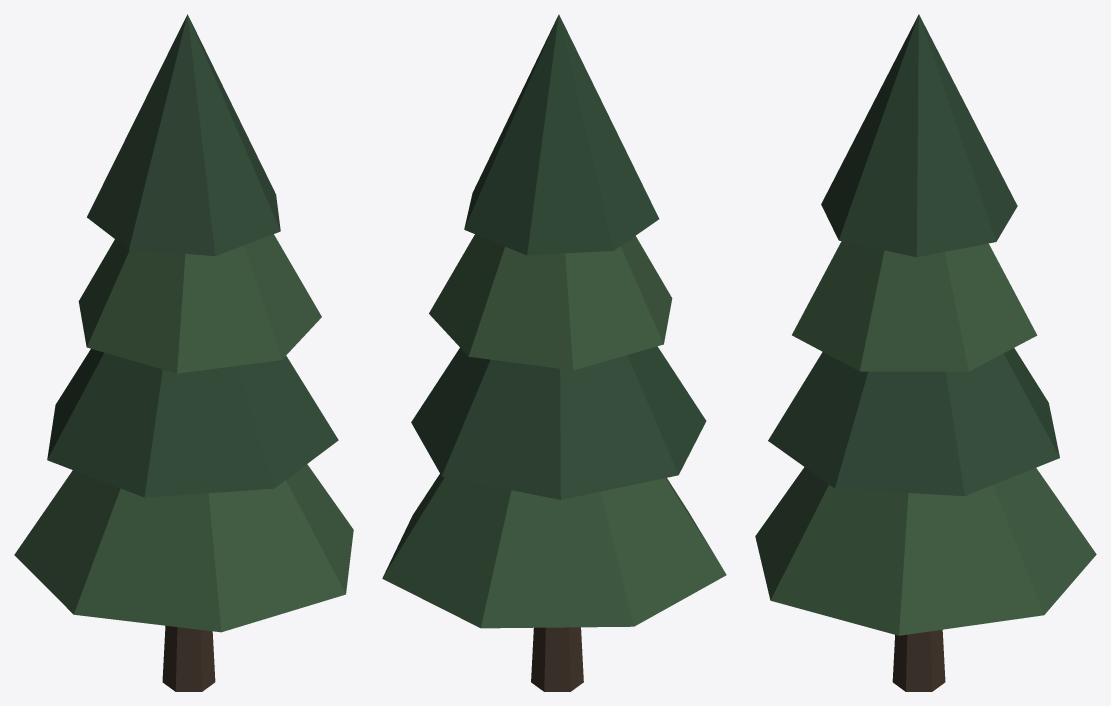
File: spruce_0.glb
The picture shows the model from 3 angles, left to right: view 1: azimuth 30°, elevation 25°; view 2: azimuth 150°, elevation 25°; view 3: azimuth 270°, elevation 25°; orthographic projection.
Parts seen in each view (by area): view 1: spruce_0; view 2: spruce_0; view 3: spruce_0.
Boxes of the visible parts, x1,y1,x2,y2 form: spruce_0: (14,14,353,691); spruce_0: (382,14,726,691); spruce_0: (755,14,1096,691).
Size of the model in its own units: 2.85 by 6.13 by 2.84.
